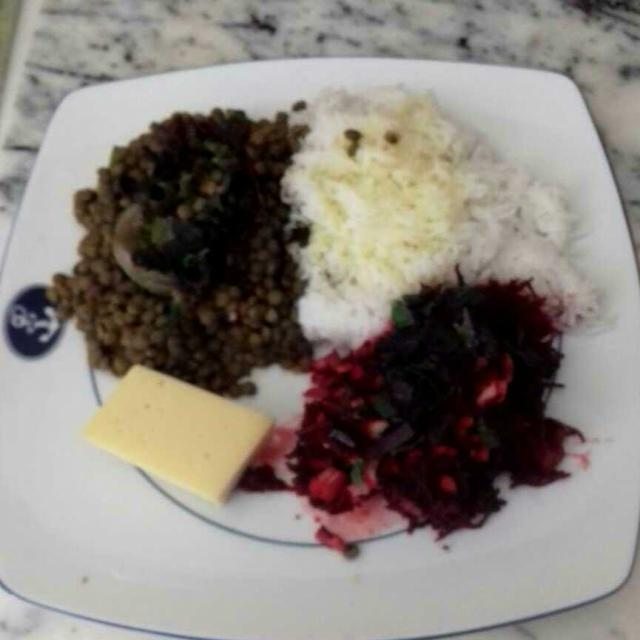beetroot-raw: (250, 263, 606, 557)
lentils: (53, 91, 304, 387)
rice: (250, 89, 581, 366)
semi-hard-cheese: (61, 363, 284, 522)
